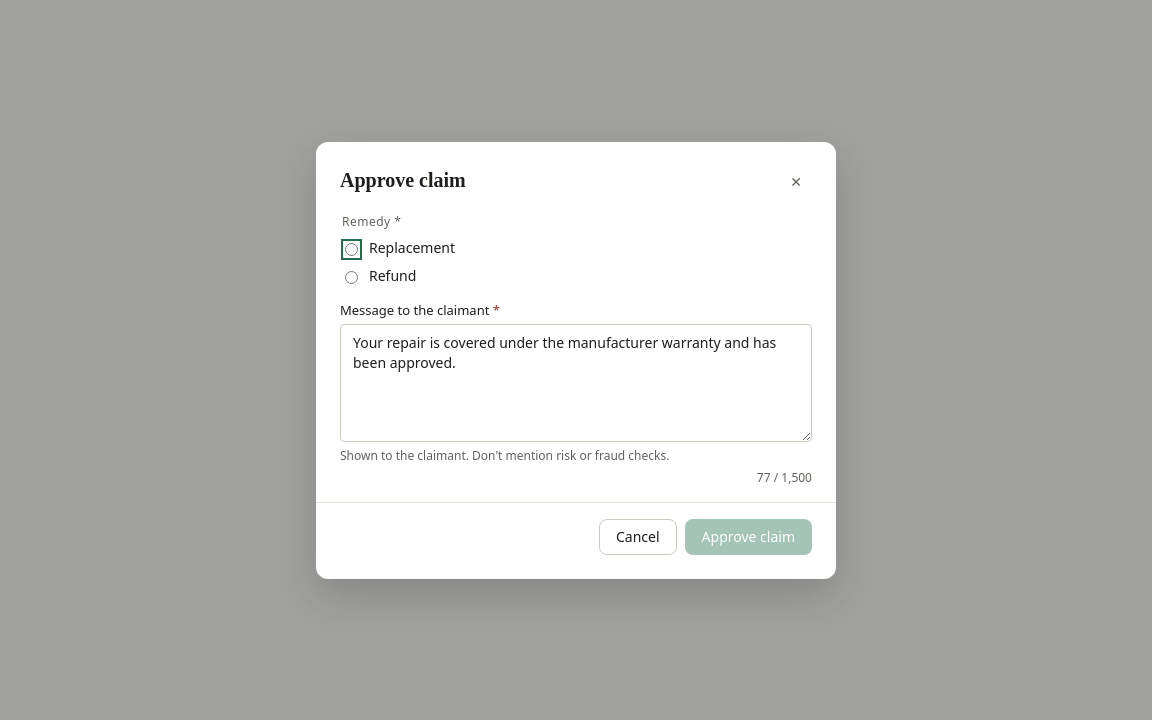
Test: ReviewDecisionForm › remedy choice (002) › shows a 400 naming the allowed remedies on the remedy group
Click the radio button labelled "Replacement". click: (352, 249)
box: [345,242,358,256]
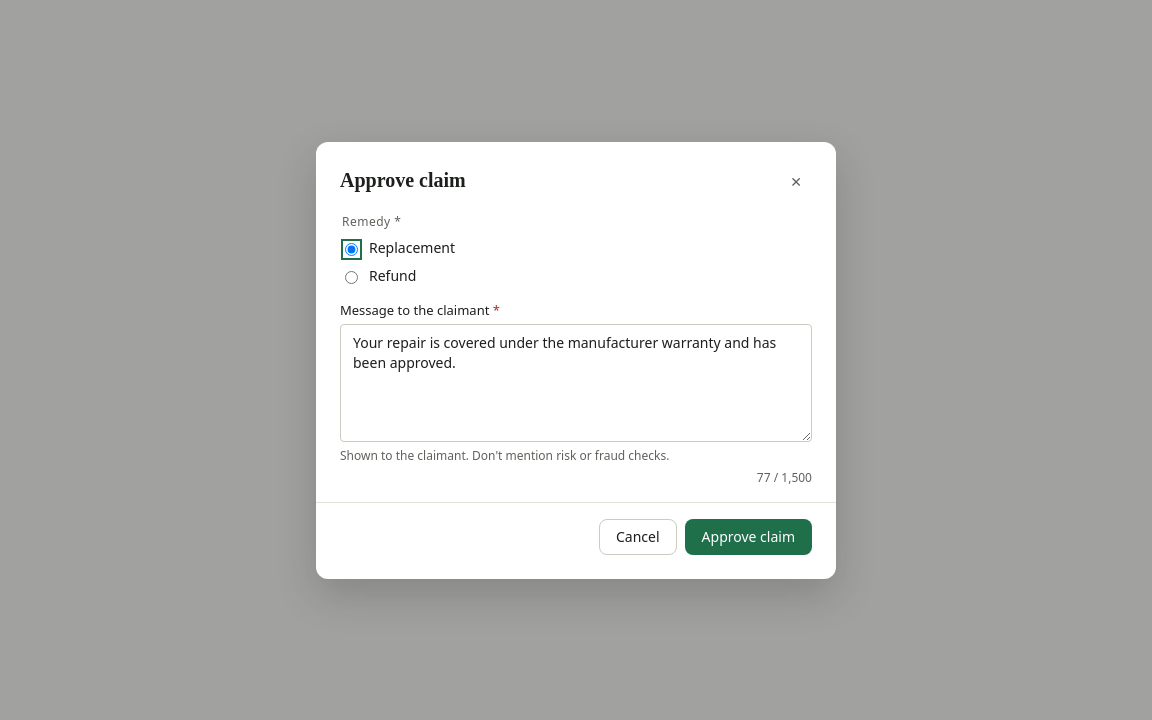
Click the button "Approve claim". click: (748, 536)
box: [685,518,812,554]
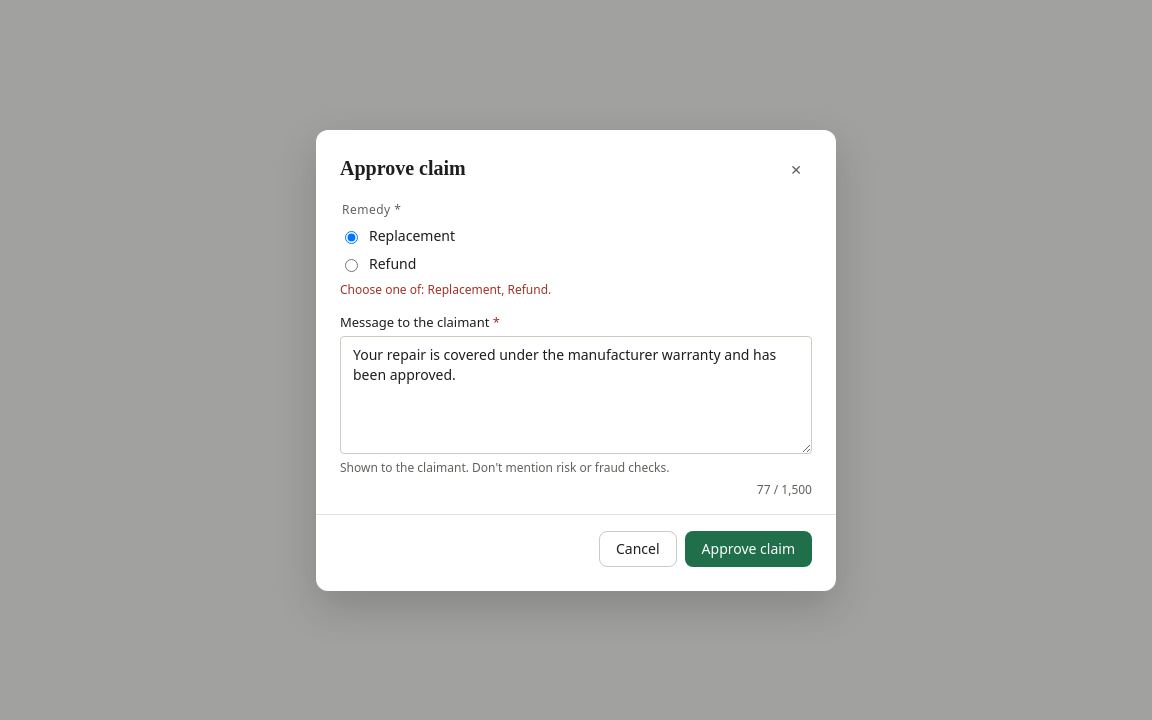
Now the text "Choose one of: Replacement, Refund." is shown, box [340,280,551,298]
